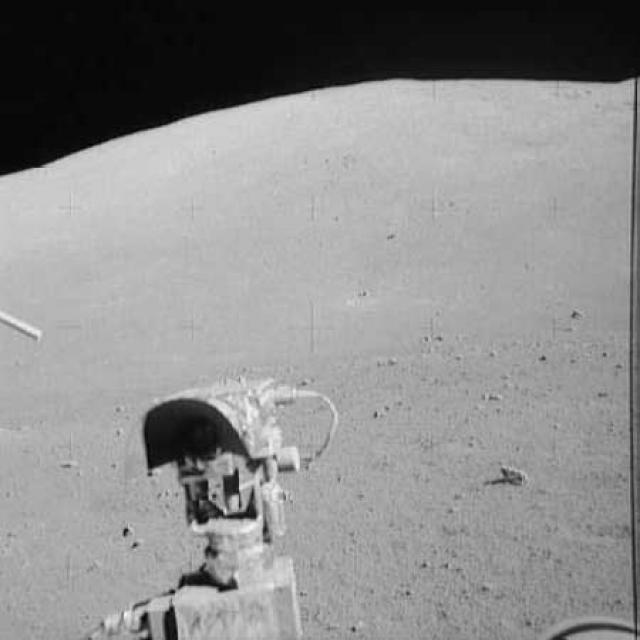artifact: (84, 379, 354, 639), (530, 607, 638, 639), (1, 308, 47, 347)
rock: (494, 458, 531, 486)
